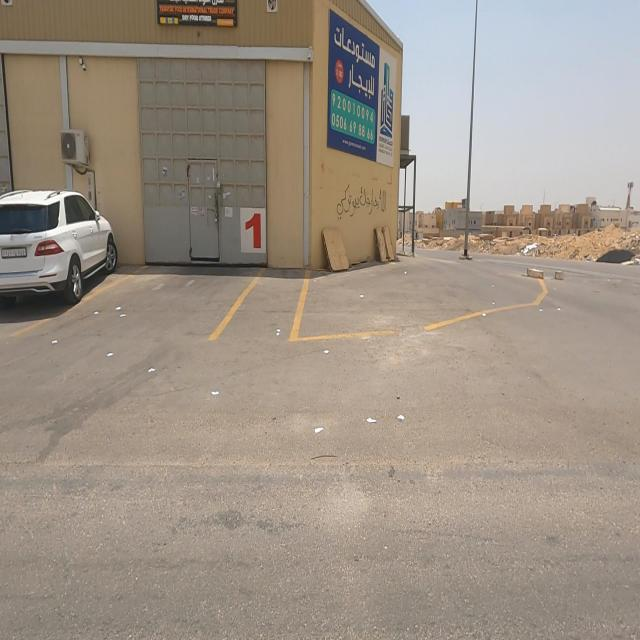debris: (302, 138, 424, 264), (498, 223, 558, 280), (591, 234, 640, 286)
